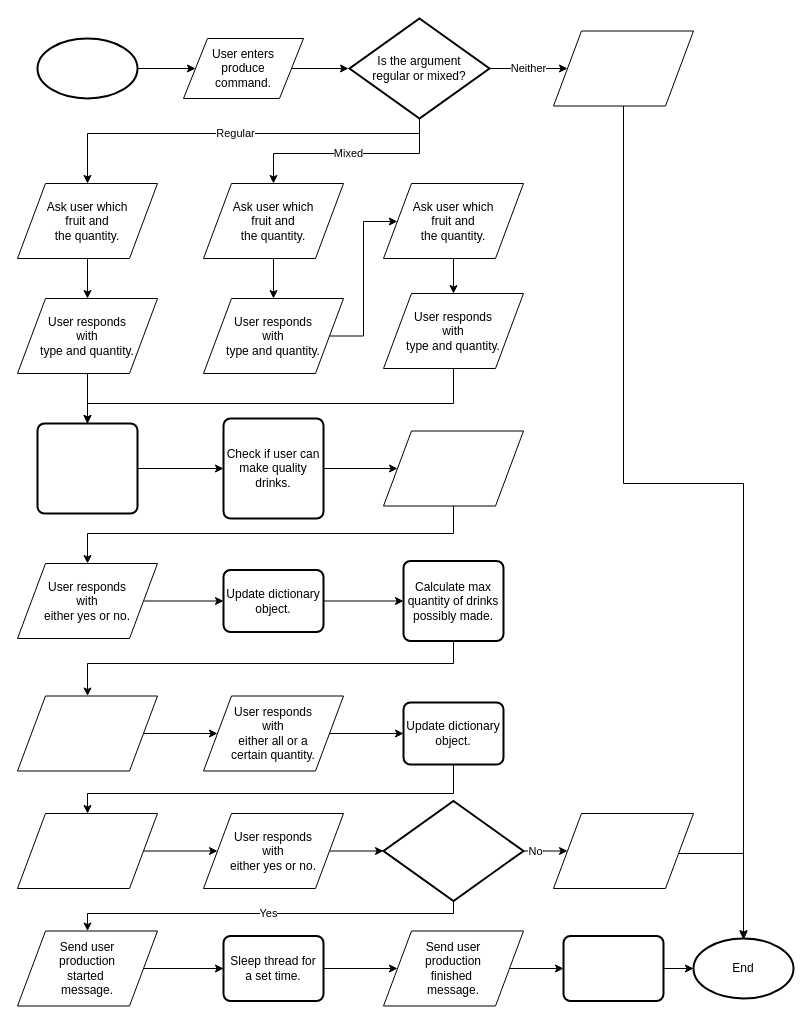
The diagram is 812 pixels wide and 1023 high, and some of its shapes have lost their labels. The box of each missing label's shape, as (x1, y1, x2, y2) in pixels:
Ask user if they would like to make all or a certain quantity.: (16, 695, 158, 771)
Ask user if they would like to make quality drinks.: (382, 430, 524, 506)
Format user data into a Python dictionary object.: (36, 422, 138, 514)
Send user a preview of the production request.: (16, 812, 158, 888)
Send user an error message (must be either regular or mixed).: (552, 30, 694, 106)
Send user production canceled message.: (552, 812, 694, 888)
Start: (36, 37, 138, 99)
Update player's inventory.: (562, 934, 664, 1002)
User's response.: (382, 800, 524, 902)
